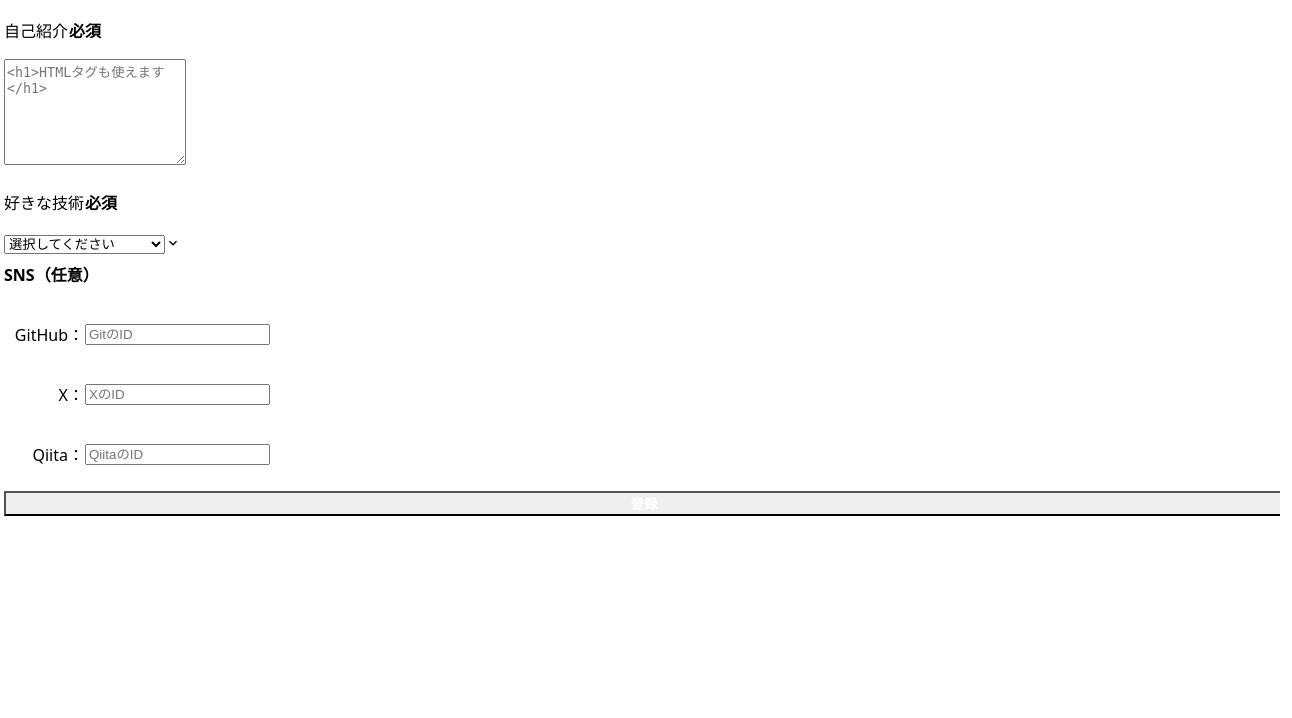
Test: 名刺カードのテスト › 名前がないときにエラーメッセージがでる
(page scrolled)
Click the button with test id "registerSubmitButton" at [642, 503], box [4,491,1280,516]
(page scrolled)
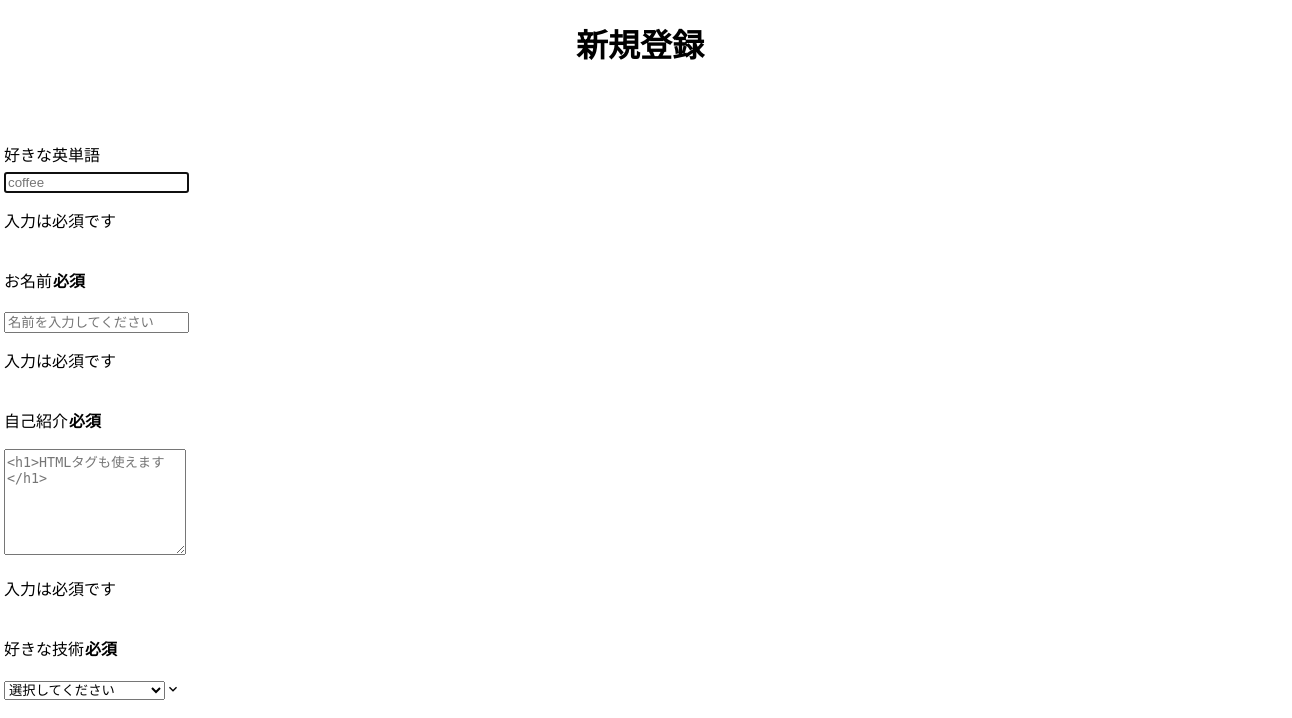
expect the text with test id "nameError" is shown: met, box [4,350,116,372]
